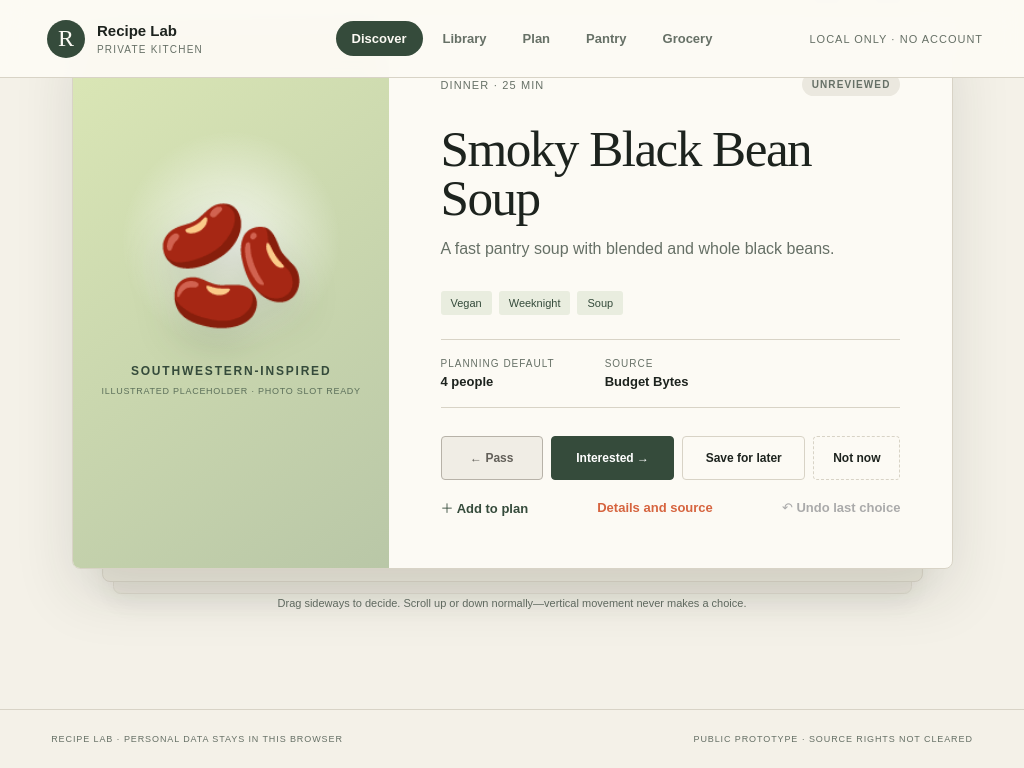
Test: Recipe Lab personal planning experience › removes send-off delay for reduced-motion users
(page scrolled)
Step 1. Click the button "← Pass" → (492, 458), box [440, 436, 543, 480]
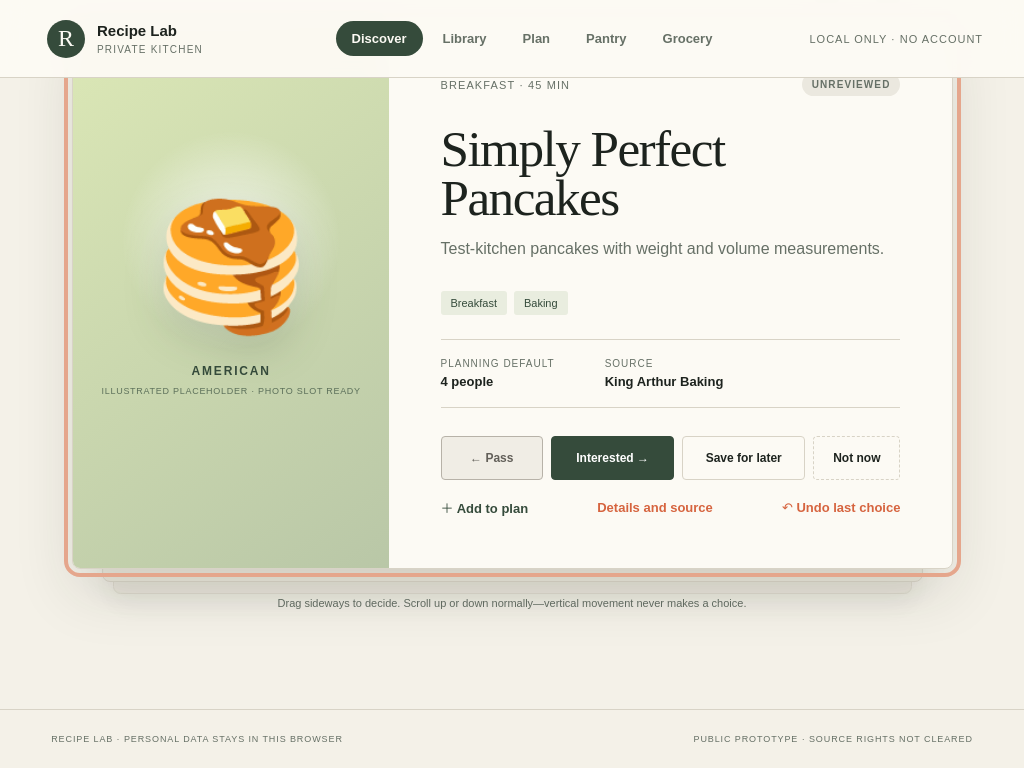
Result: the heading "Simply Perfect Pancakes" is shown at [440, 120, 724, 226]
